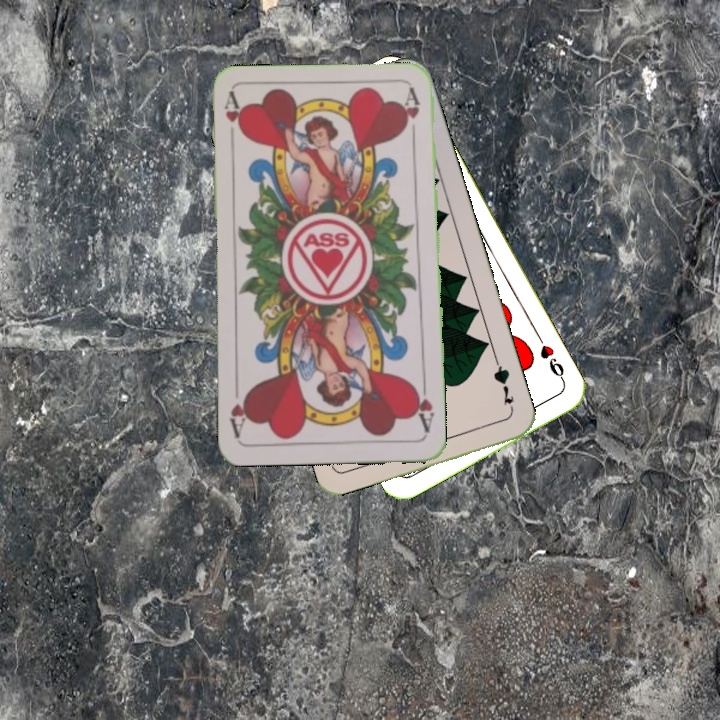G7: (489, 357, 517, 415)
H9: (533, 331, 568, 385)
HA: (409, 377, 437, 435), (220, 90, 246, 150)
